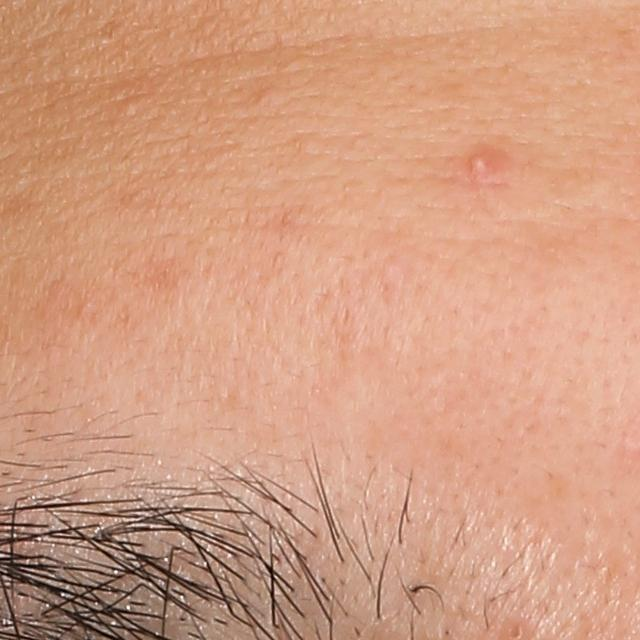comedo: (122, 100, 139, 120)
